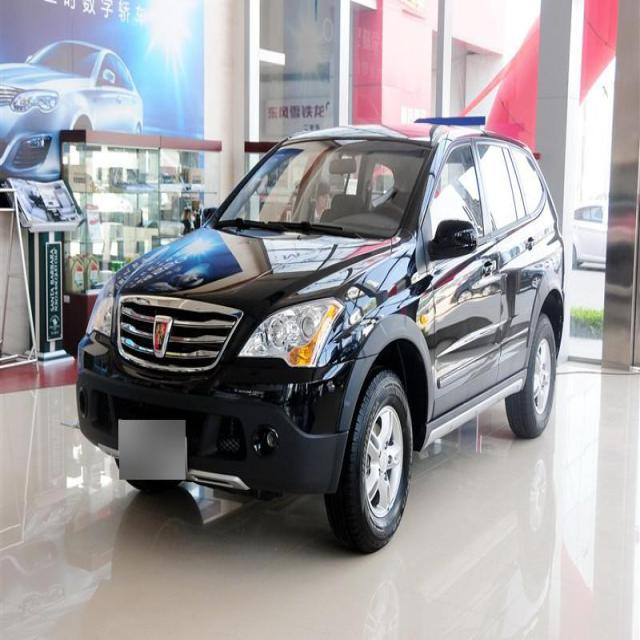door: (477, 147, 542, 382)
front_bumper: (74, 368, 350, 498)
front_glass: (212, 138, 434, 239)
front_left_side_door: (420, 132, 505, 427)
front_left_side_light: (237, 295, 346, 369)
front_left_side_mirror: (428, 219, 478, 264)
front_right_side_light: (86, 271, 120, 335)
front_right_side_mirror: (201, 207, 217, 230)
wheel: (324, 369, 414, 549), (506, 313, 556, 437)
